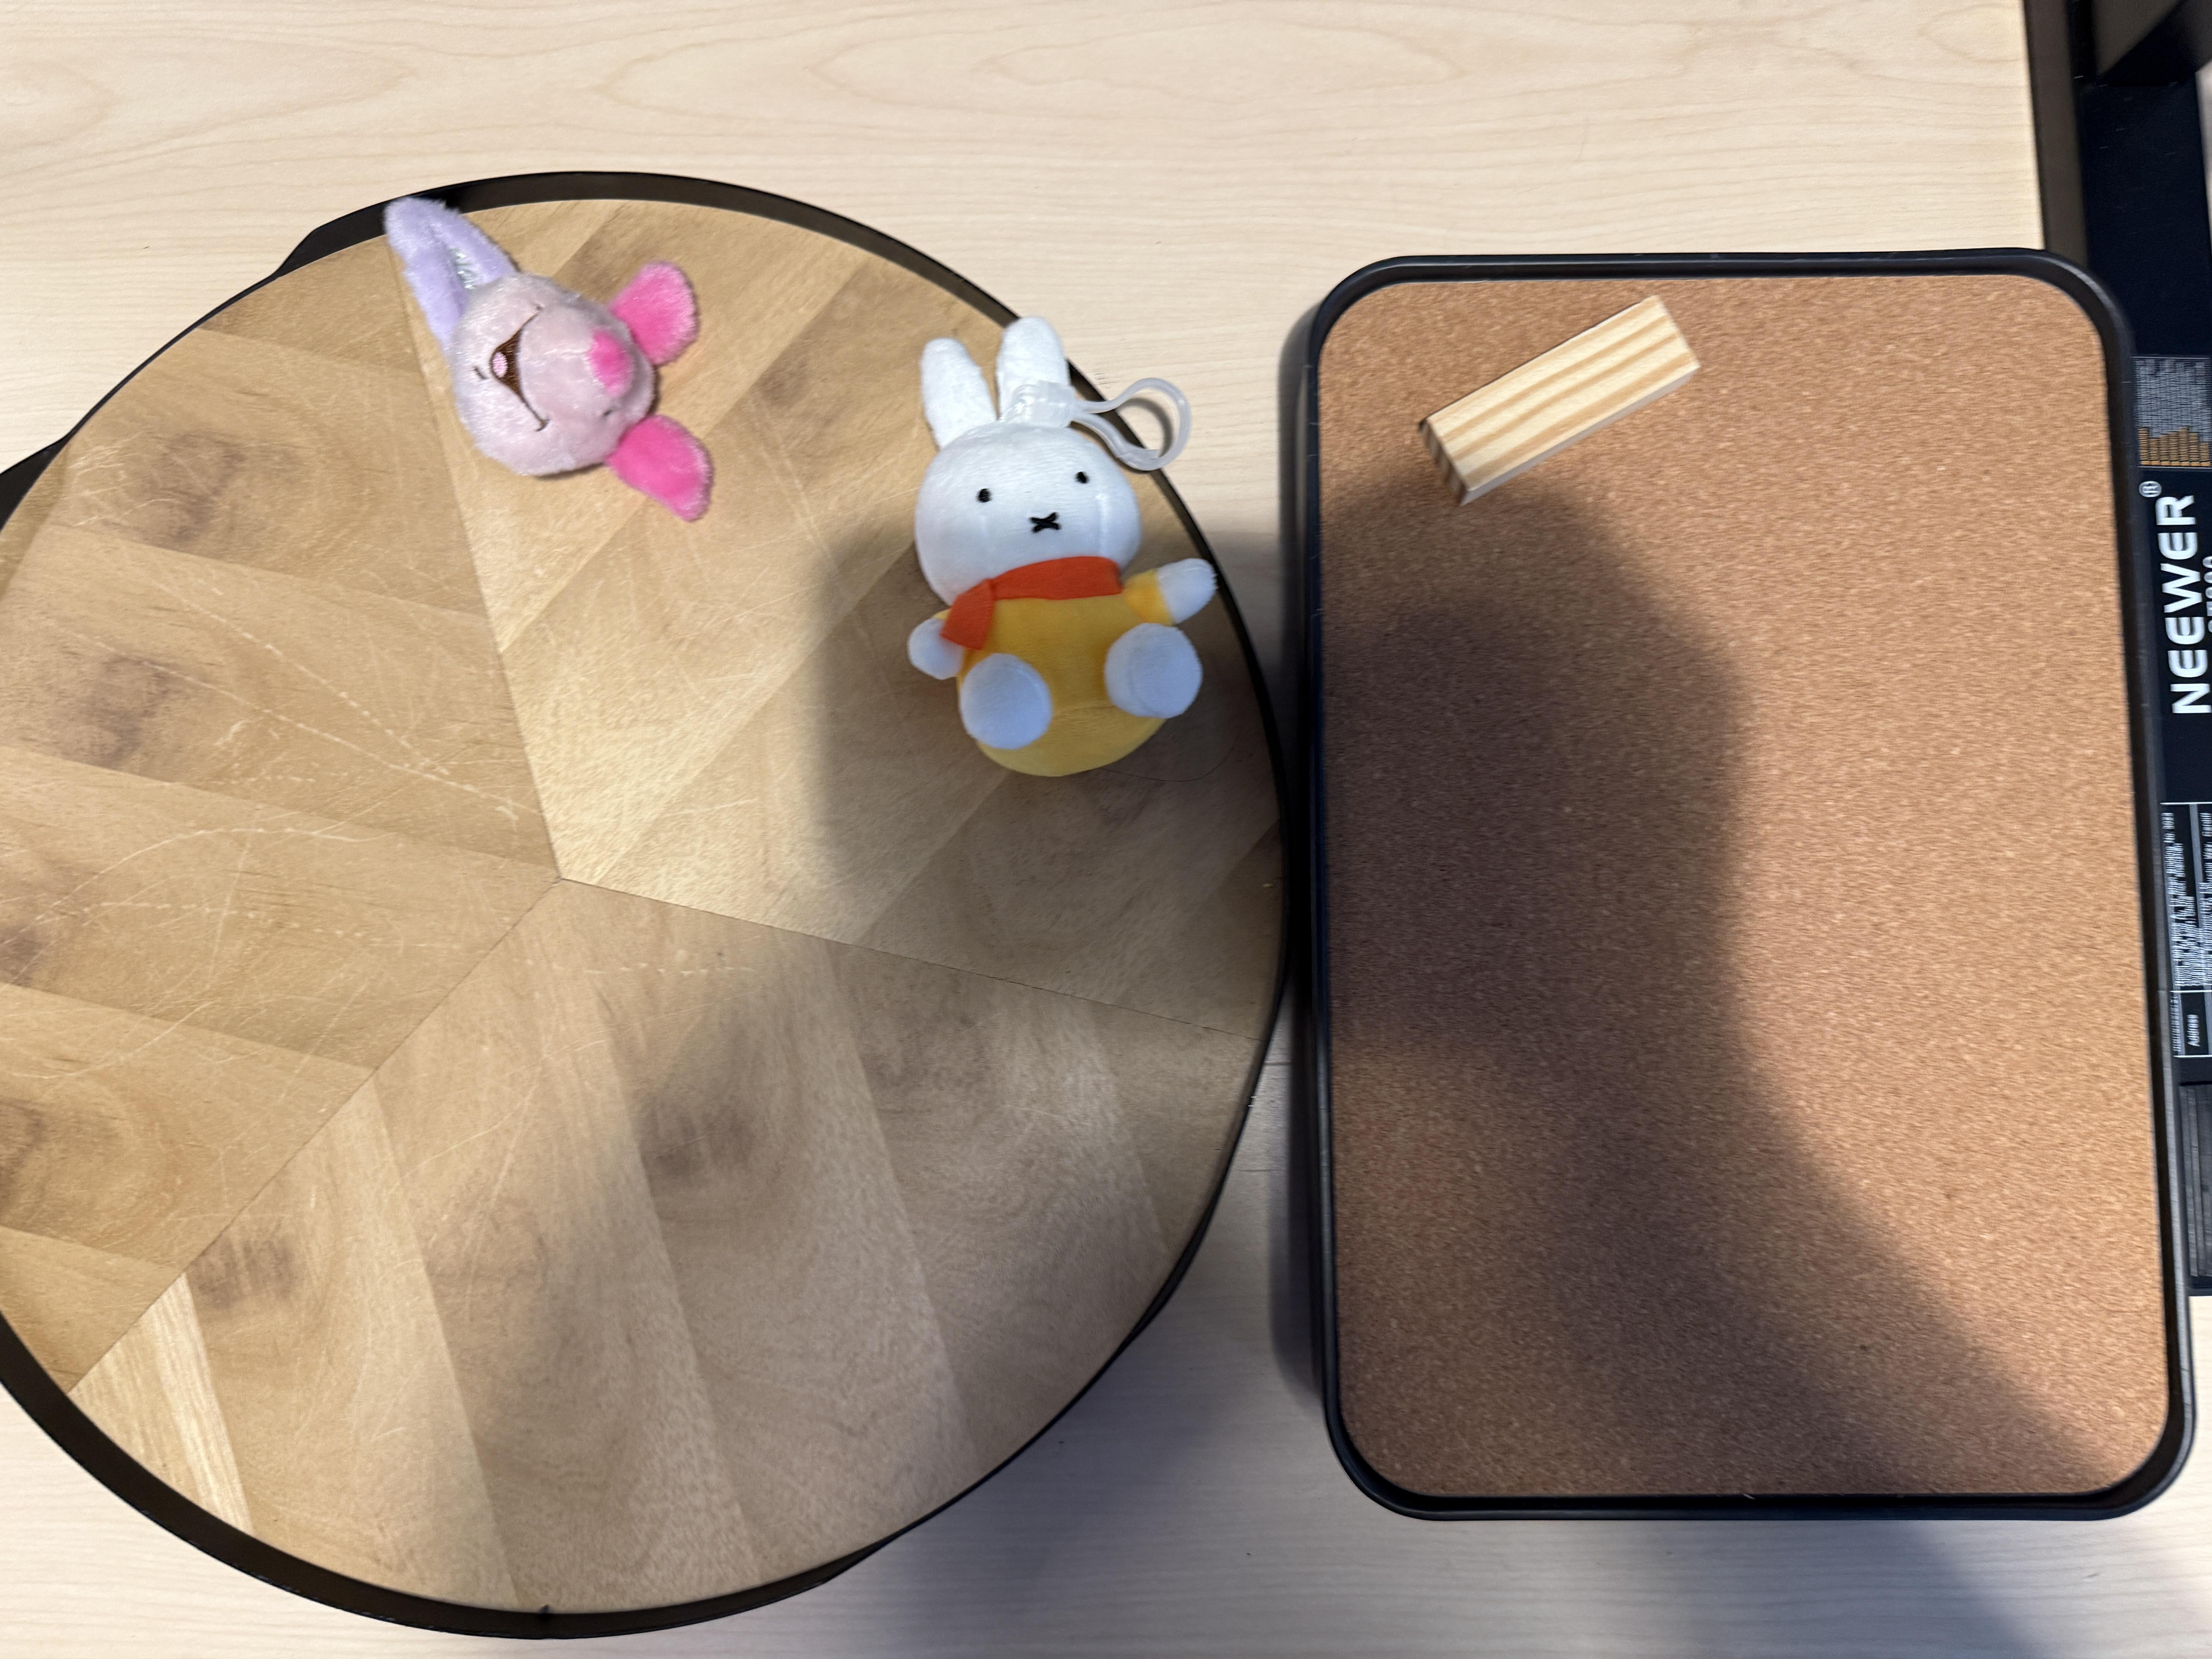block: (1421, 291, 1710, 504)
doll: (916, 321, 1221, 775), (383, 204, 718, 523)
